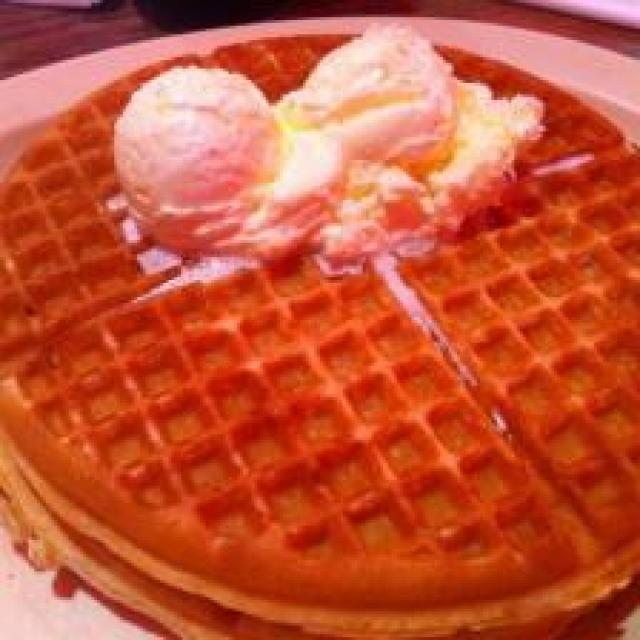Waffles: (1, 27, 638, 639)
